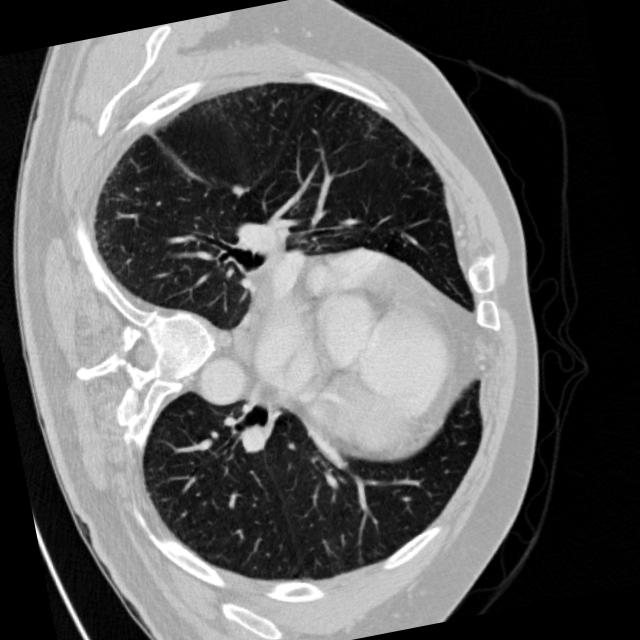nodule: (222, 174, 255, 207)
